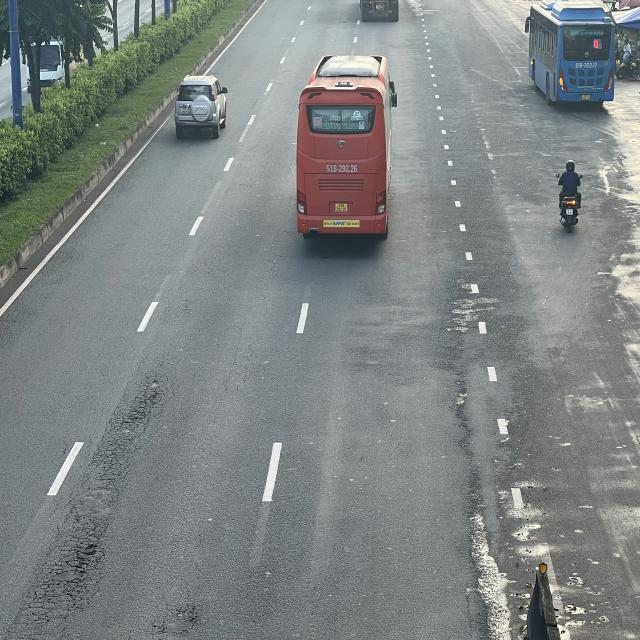car: (175, 73, 229, 134)
coach: (294, 52, 394, 240), (526, 5, 616, 109)
